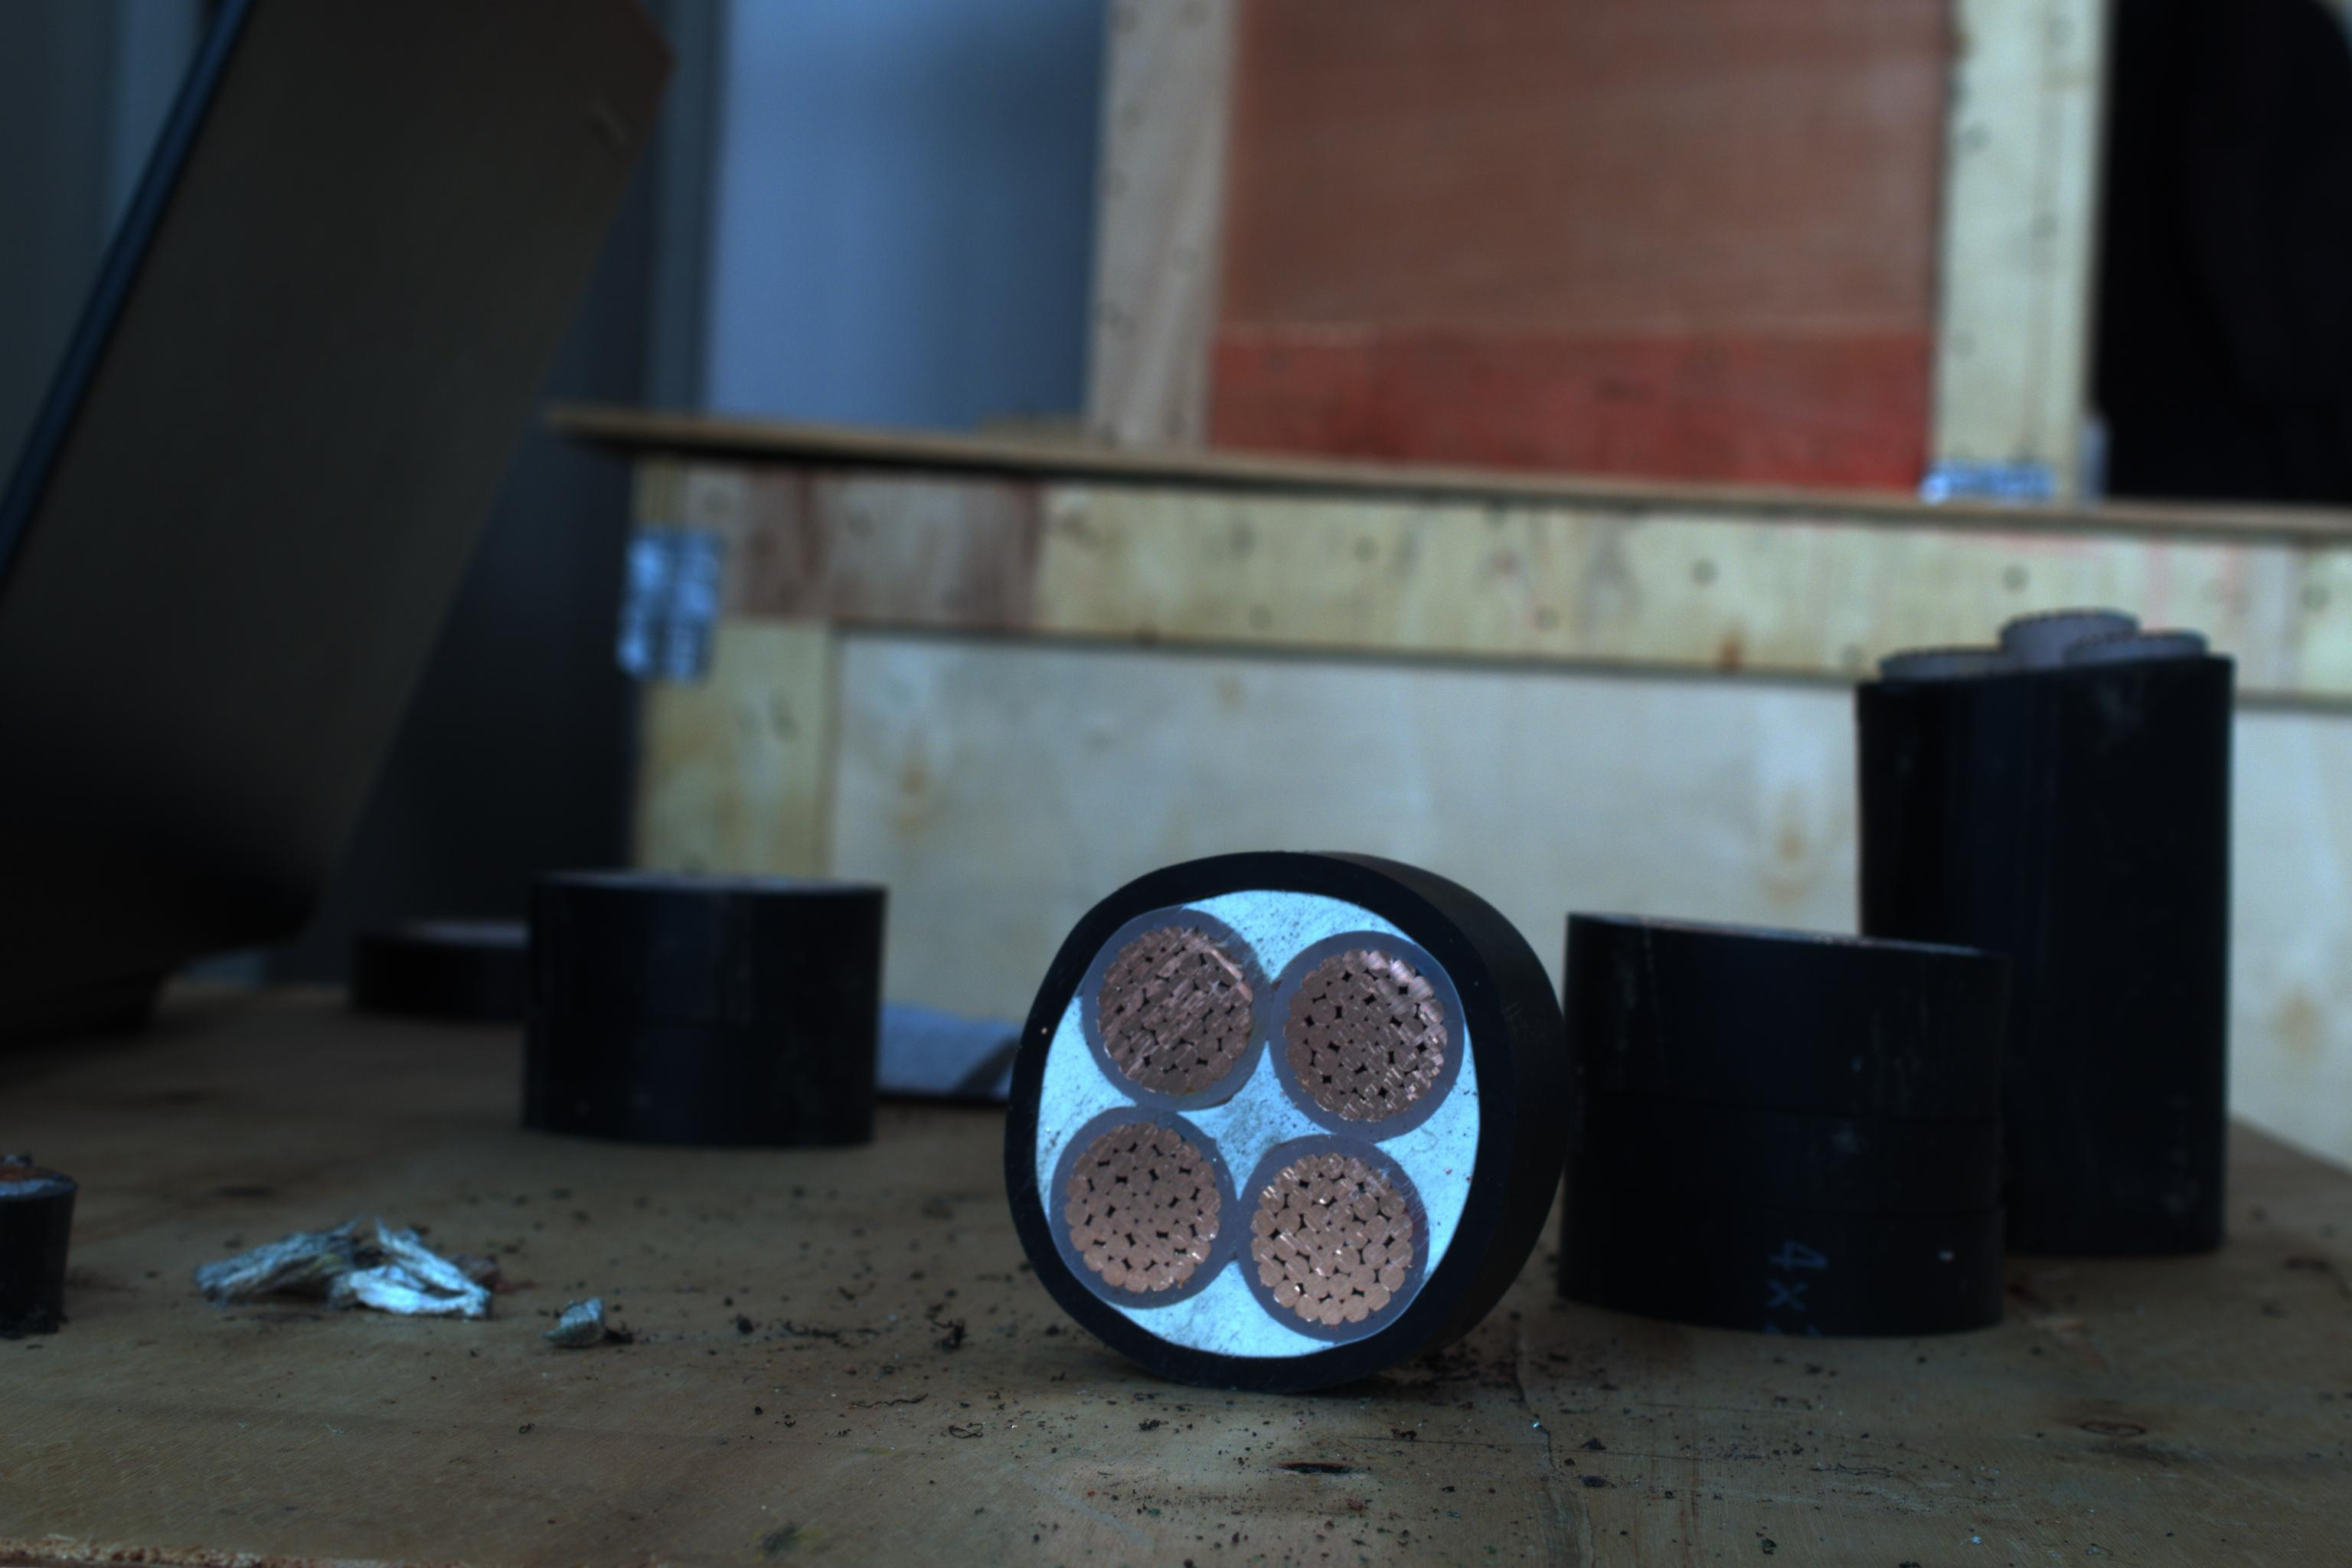YJV_0.6_1kV_4x240: (987, 842, 1507, 1370)
